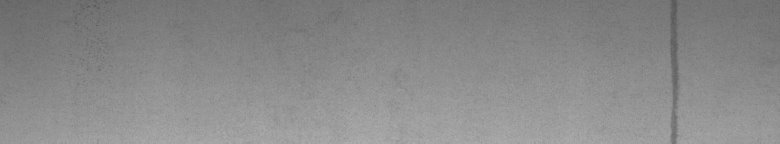hd: (668, 4, 683, 136)
